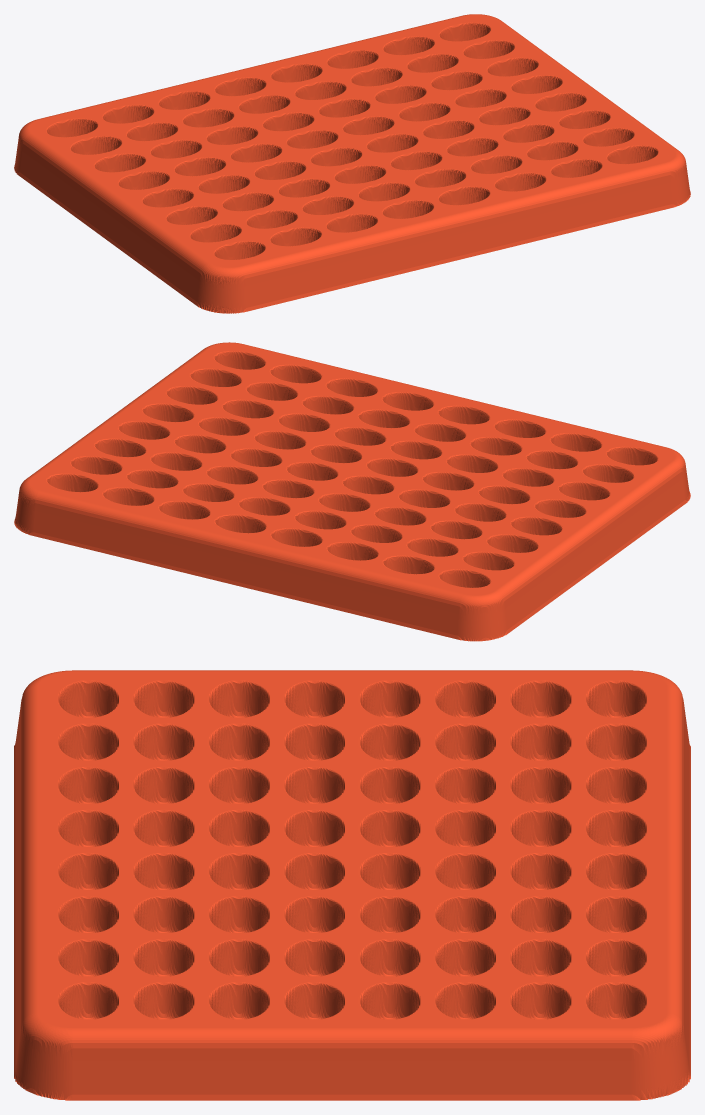
The model's file is mold.glb.
The picture shows the model from 3 angles, top to bottom: view 1: azimuth 30°, elevation 25°; view 2: azimuth 150°, elevation 25°; view 3: azimuth 270°, elevation 25°; orthographic projection. The views are drawn at different scales.
Parts seen in each view (by area): view 1: geometry_0; view 2: geometry_0; view 3: geometry_0.
Boxes of the visible parts, x1,y1,x2,y2 form: geometry_0: (14,14,690,313); geometry_0: (14,342,690,641); geometry_0: (14,670,690,1100).
Size of the model in its own units: 0.1355 by 0.0105 by 0.1031.
